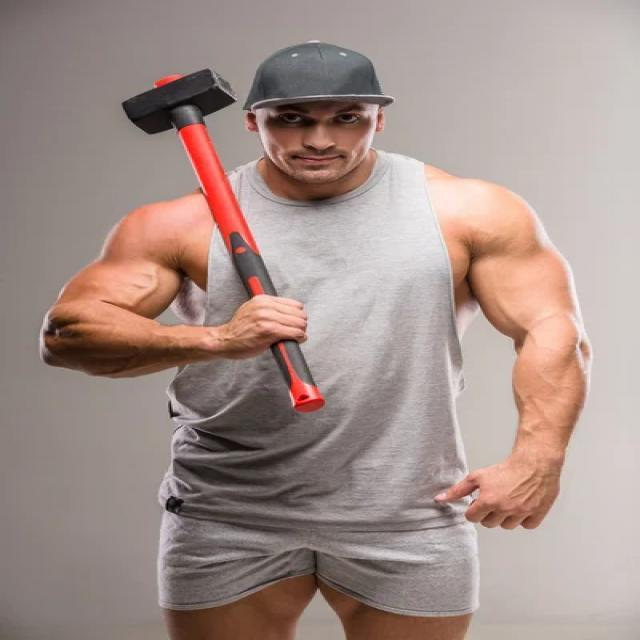hammer: (111, 65, 332, 416)
